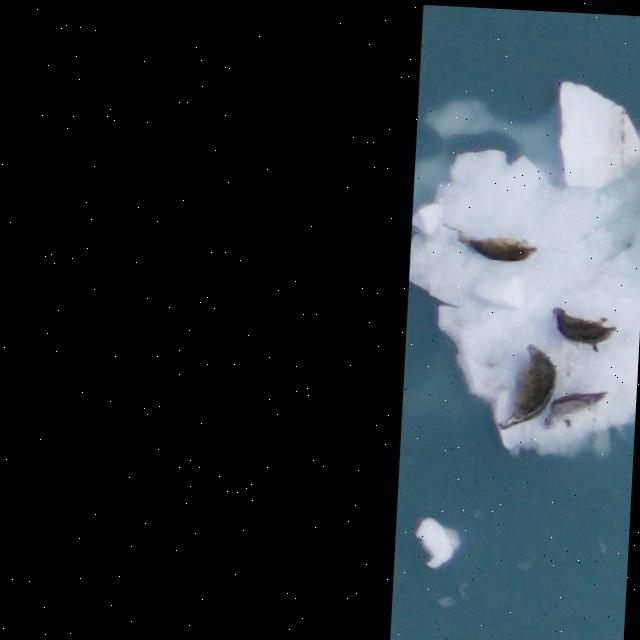seal: (486, 343, 572, 444), (548, 308, 619, 355), (452, 231, 539, 264), (543, 392, 607, 427)
